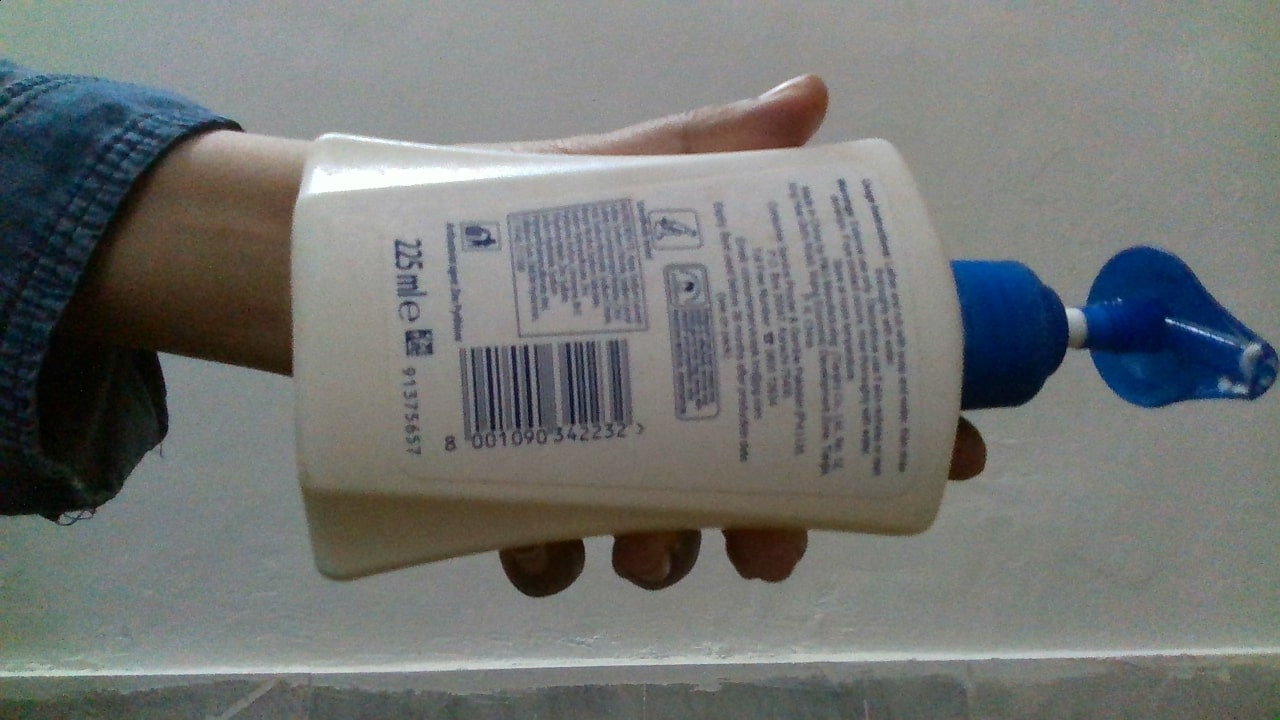Barcode: (455, 336, 635, 447)
